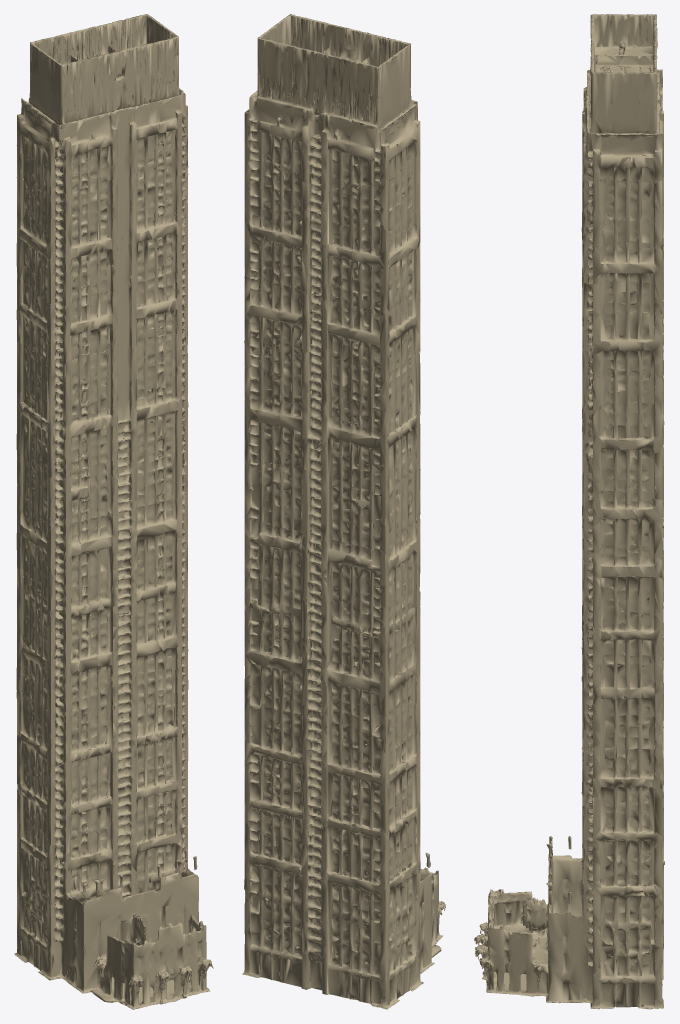
The model's file is burj-royale.glb.
3 renders of one model, left to right at view 1: azimuth 30°, elevation 25°; view 2: azimuth 150°, elevation 25°; view 3: azimuth 270°, elevation 25°, orthographic. The views are drawn at different scales.
Parts seen in each view (by area): view 1: Mesh_0; view 2: Mesh_0; view 3: Mesh_0.
Part boxes in pixels (x1,y1,x2,y2): Mesh_0: (14,14,213,1009); Mesh_0: (242,14,445,1009); Mesh_0: (474,14,664,1009).
Size of the model in its own units: 34.99 by 215 by 39.99.
